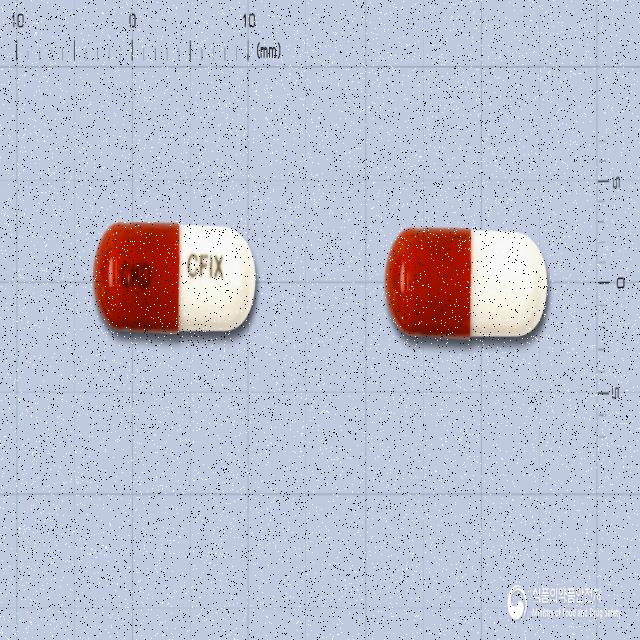Pocef Cap: (94, 220, 256, 334)
